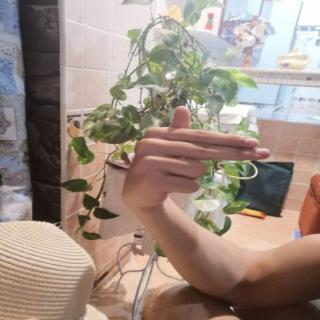GHAYN: (108, 99, 280, 212)
